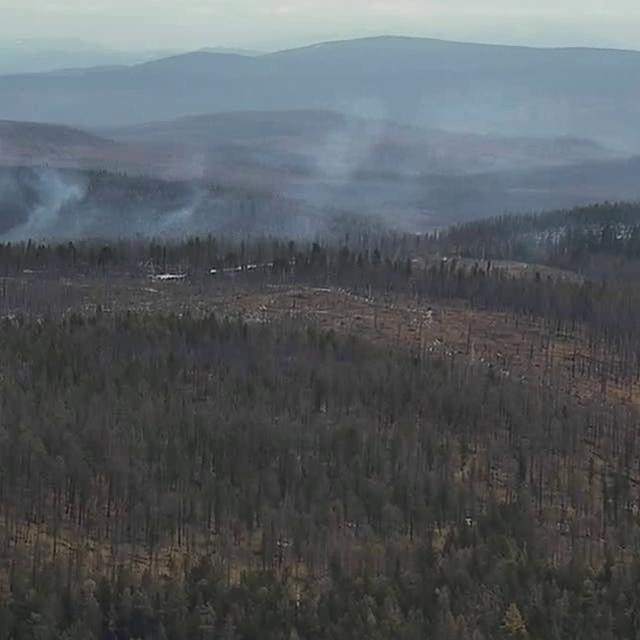Smoke: (1, 100, 503, 275)
